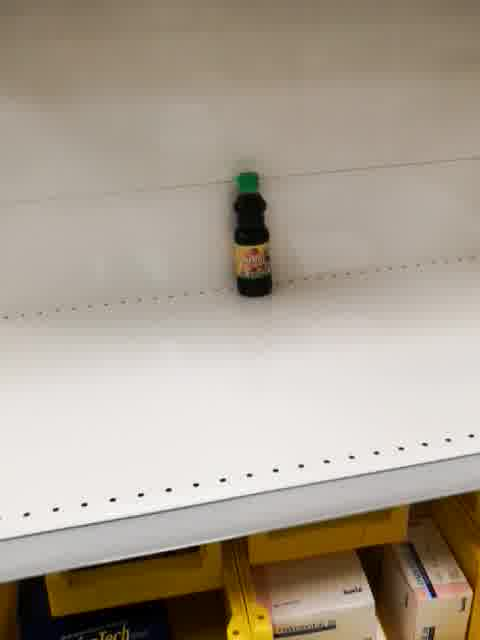cookingoil: (230, 169, 274, 298)
